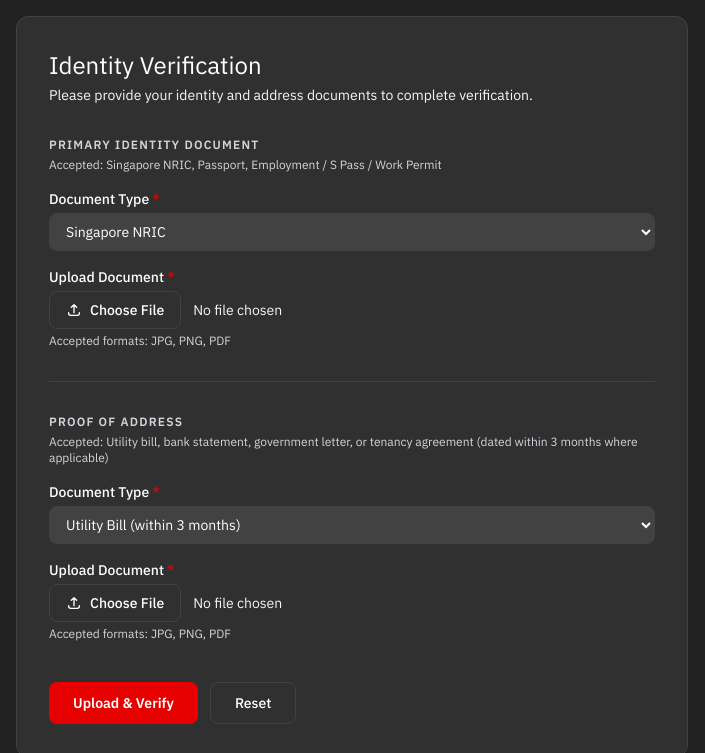
Test: ClientVerifyPage › shows validation error when submitting without files
Click the button "Upload & Verify".
click(123, 703)  # box 49,682 -> 198,724
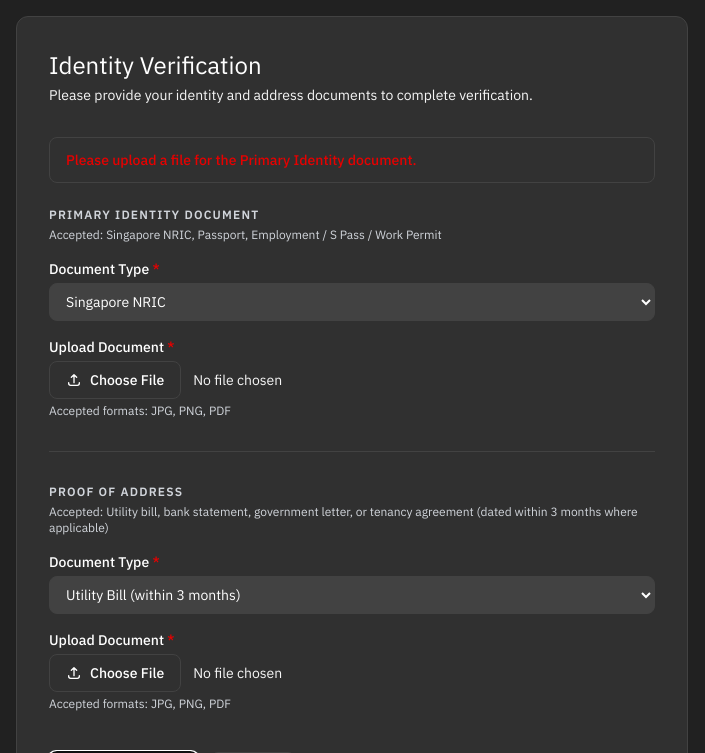
Expected: the text "Please upload a file for the Primary Identity document." is shown, 49,137 -> 655,183
